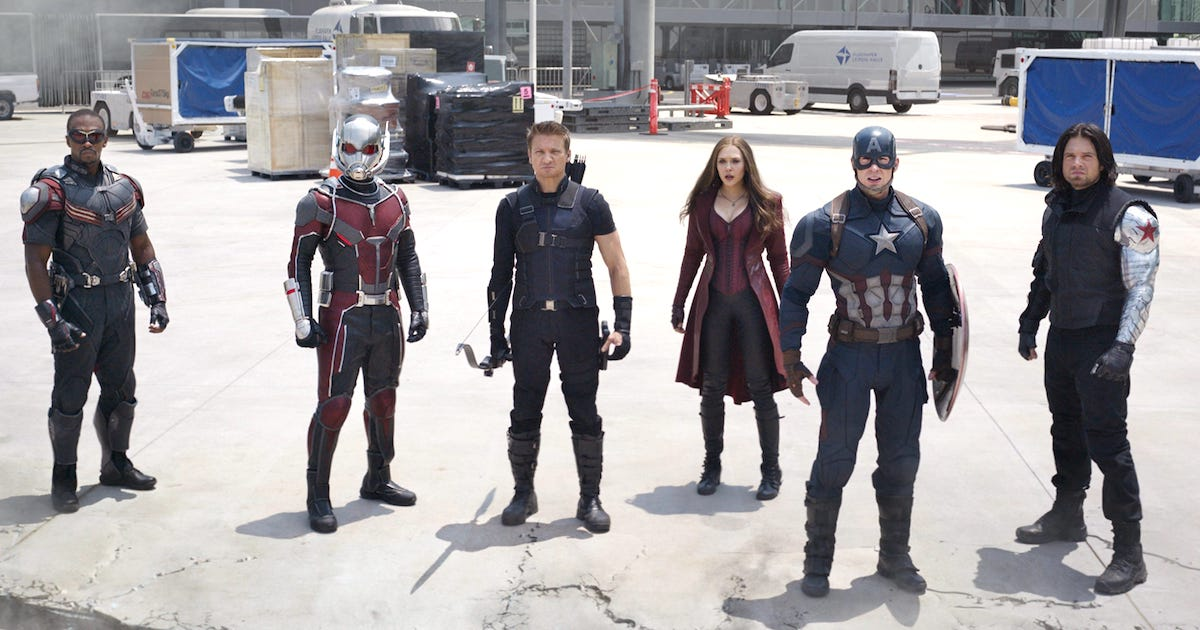Person: (984, 103, 1161, 603), (11, 89, 196, 527), (477, 115, 641, 548), (804, 129, 953, 595), (266, 114, 437, 520), (670, 127, 784, 474)
